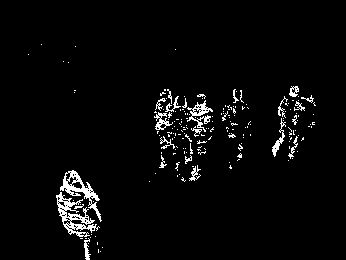person: (56, 169, 104, 260), (221, 88, 254, 169), (190, 93, 214, 181), (169, 95, 190, 182), (290, 93, 316, 159), (273, 86, 294, 156), (154, 87, 171, 169)
